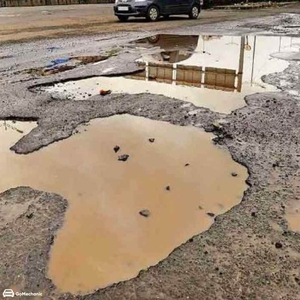pothole: (1, 114, 258, 300), (32, 32, 300, 112)
